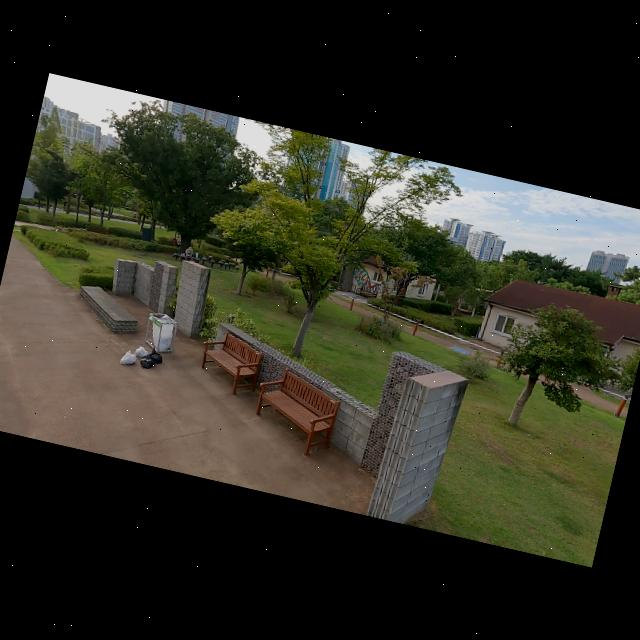trash: (142, 344, 164, 364), (118, 348, 138, 368), (136, 353, 158, 371), (132, 343, 149, 358)
